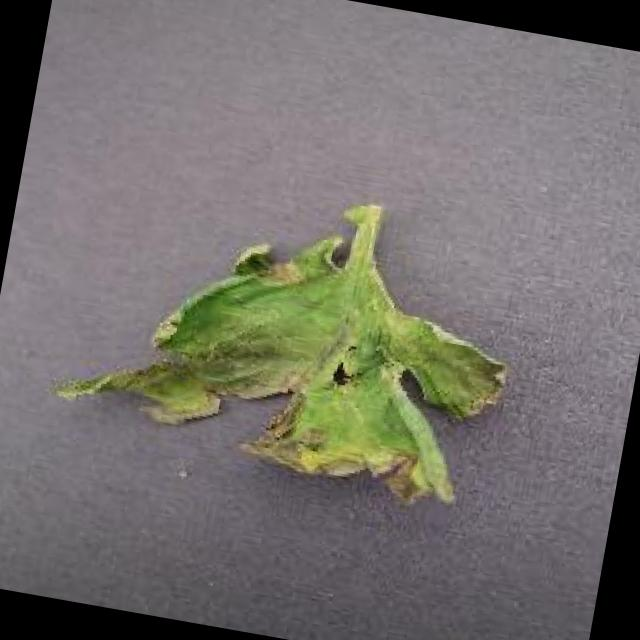Tomato_Late_Blight: (35, 179, 542, 540)
